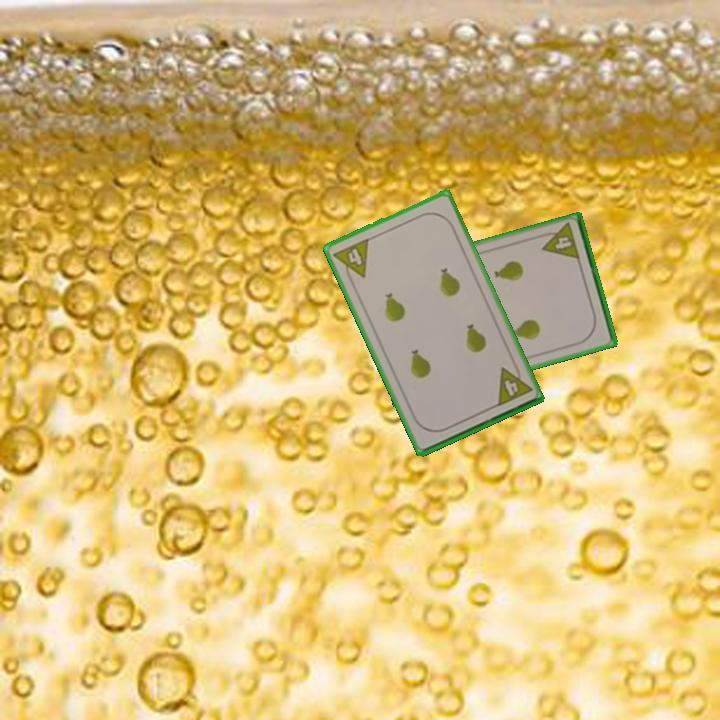4p: (330, 235, 372, 286), (493, 359, 535, 409), (536, 219, 583, 263)
